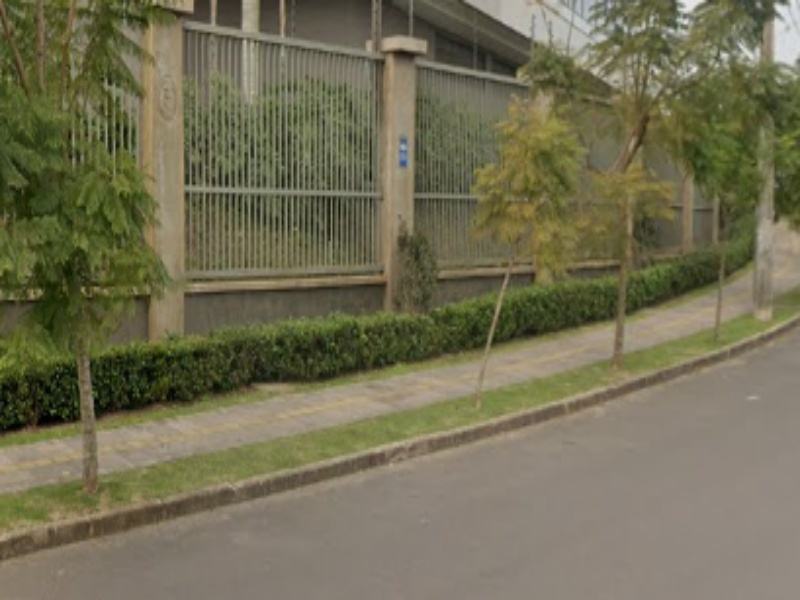v16: (1, 279, 798, 584)
